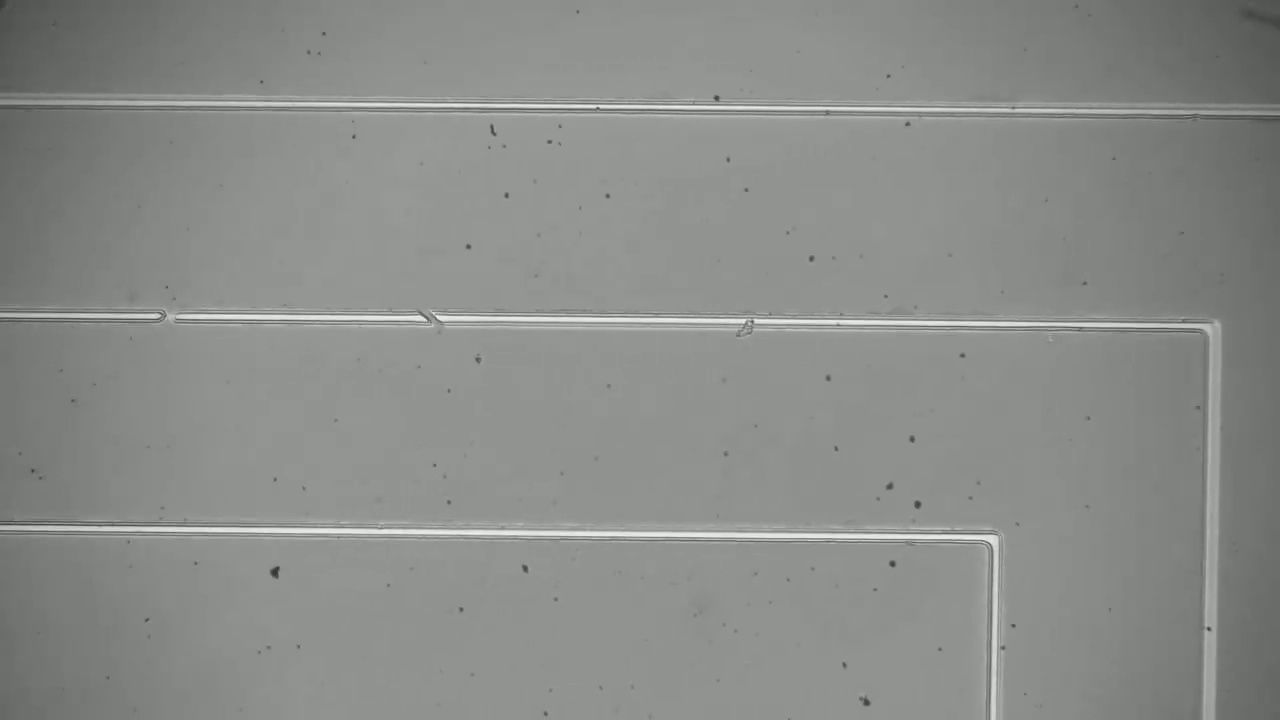open: (407, 300, 451, 336), (149, 294, 188, 334)
stains_enbedded: (726, 307, 767, 347)
